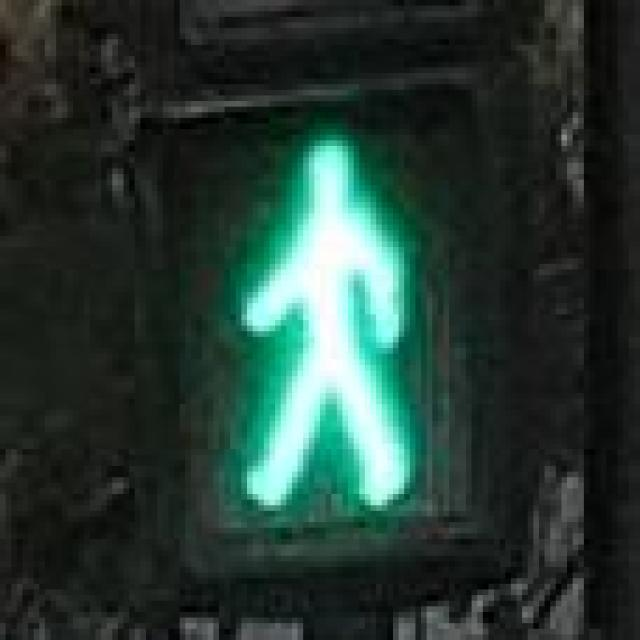geen-crossing: (162, 101, 472, 528)
